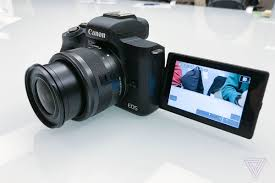camera: (28, 14, 167, 124)
